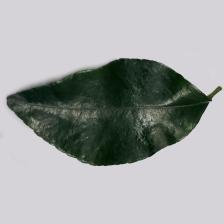healthy: (8, 58, 211, 167)
